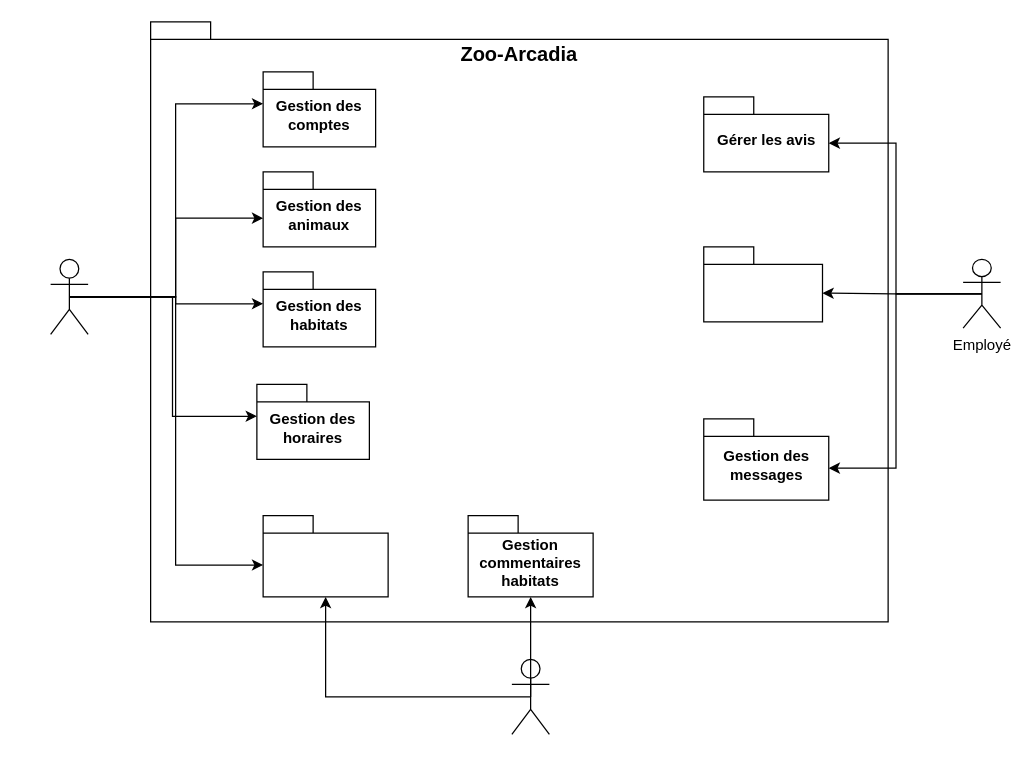
The diagram is 1033 pixels wide and 783 high, and some of its shapes have lost their labels. The box of each missing label's shape, as (x1, y1, x2, y2) in pixels:
Administrateur: (49, 258, 88, 334)
Gestion des comptes rendus: (262, 514, 388, 597)
Gestion des services: (702, 246, 822, 322)
Vétérinaire: (511, 658, 549, 734)
